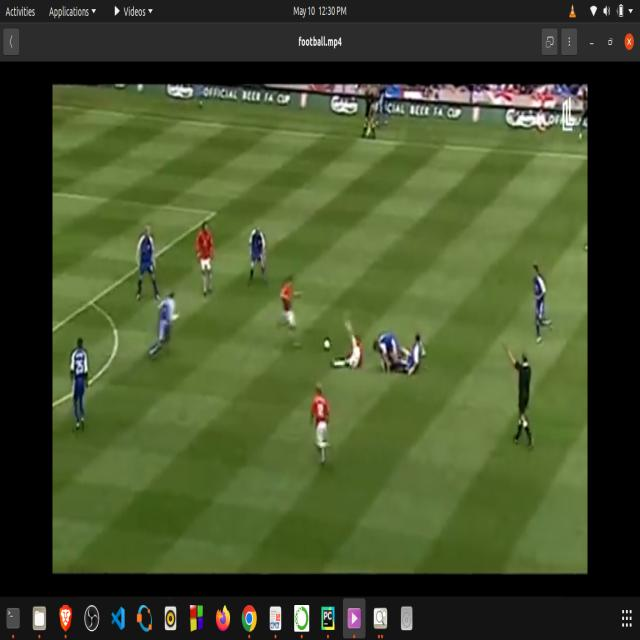Ball: (321, 330, 334, 356)
Refree: (498, 333, 537, 448), (360, 88, 382, 149)
football-players: (306, 382, 336, 474), (67, 332, 93, 435), (278, 273, 308, 351), (134, 220, 162, 302), (527, 257, 553, 345), (339, 309, 369, 377), (151, 287, 177, 360), (197, 215, 219, 298), (406, 321, 431, 387), (247, 220, 270, 290), (377, 328, 402, 377)
